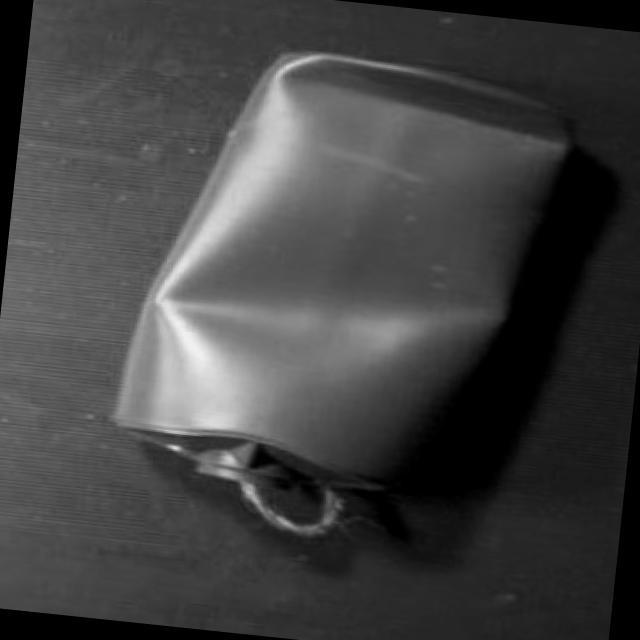HDPE Plastic: (104, 46, 580, 550)
